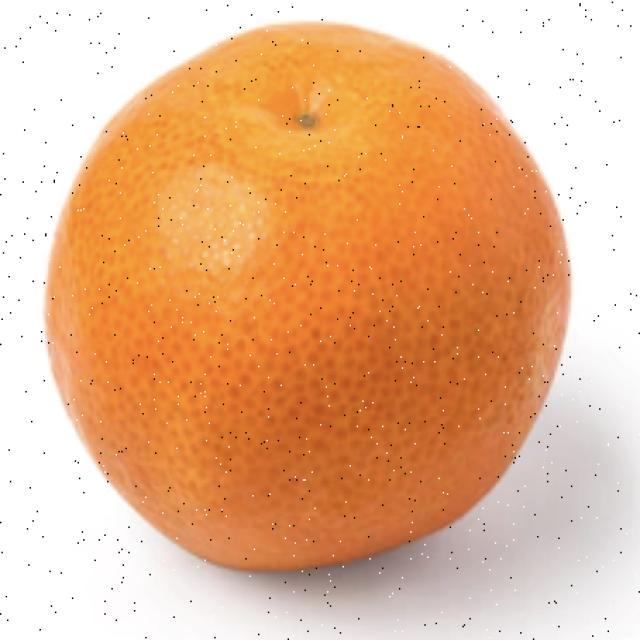Orange: (43, 19, 572, 572)
